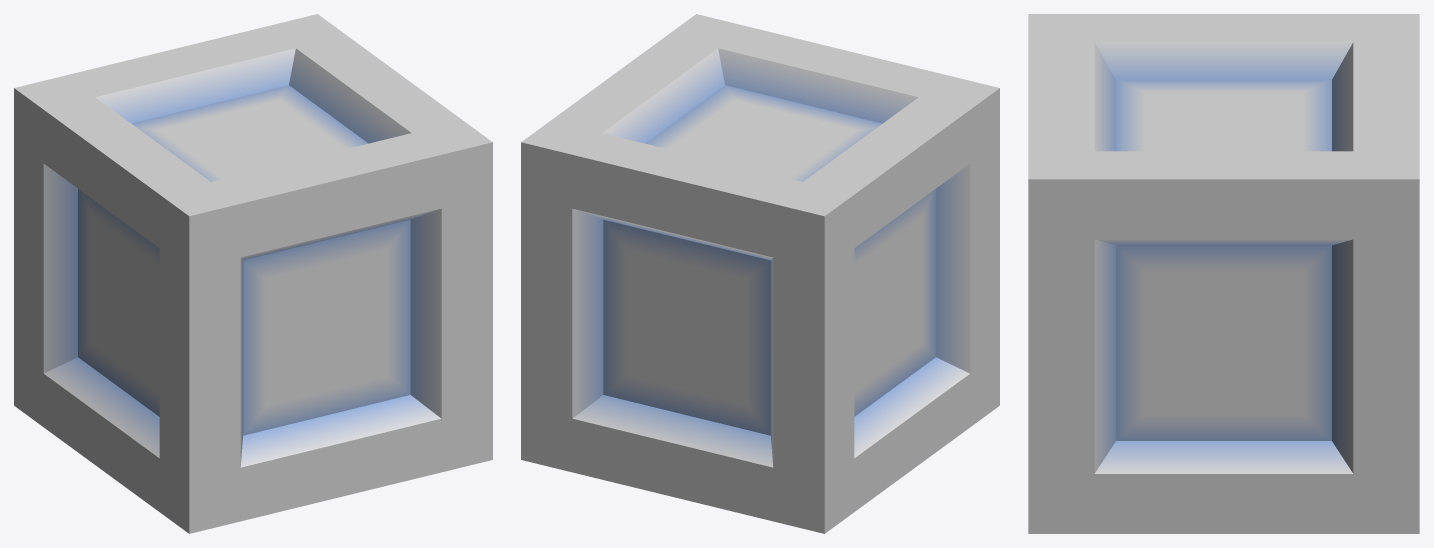
The model's file is ruins_block.glb.
3 views of the same model, side by side, from view 1: azimuth 30°, elevation 25°; view 2: azimuth 150°, elevation 25°; view 3: azimuth 270°, elevation 25° (orthographic). The views are drawn at different scales.
Parts seen in each view (by area): view 1: Ruin Block; view 2: Ruin Block; view 3: Ruin Block.
Boxes of the visible parts, x1,y1,x2,y2 form: Ruin Block: (14,14,492,533); Ruin Block: (521,14,999,533); Ruin Block: (1028,14,1419,533).
Size of the model in its own units: 1 by 1 by 1.
